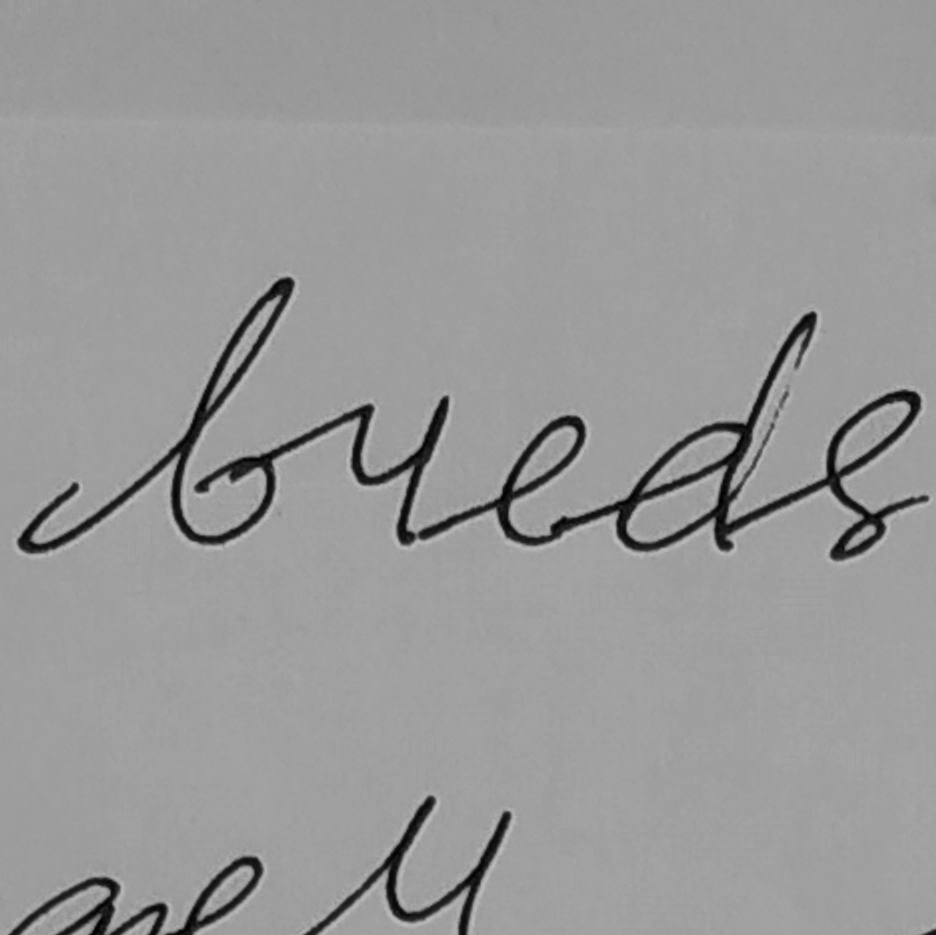b: (164, 273, 297, 551)
d: (611, 305, 819, 558)
e: (494, 411, 590, 550)
r: (335, 391, 452, 549)
s: (821, 386, 933, 564)
